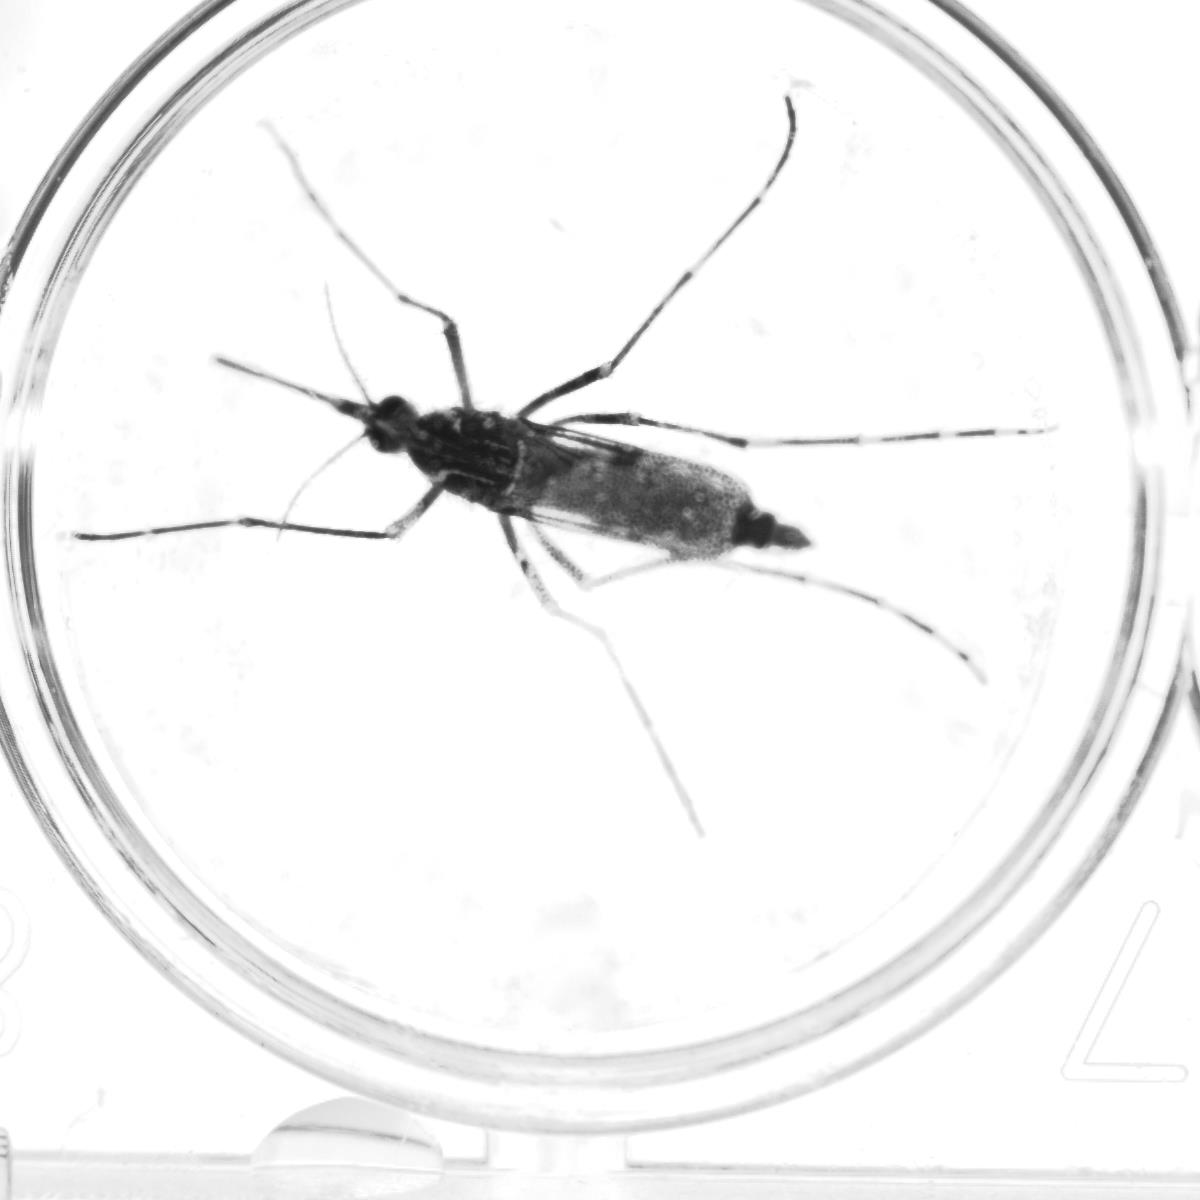f-a: (181, 324, 431, 469)
f-b: (147, 264, 982, 751)
f-c: (753, 505, 827, 558)
